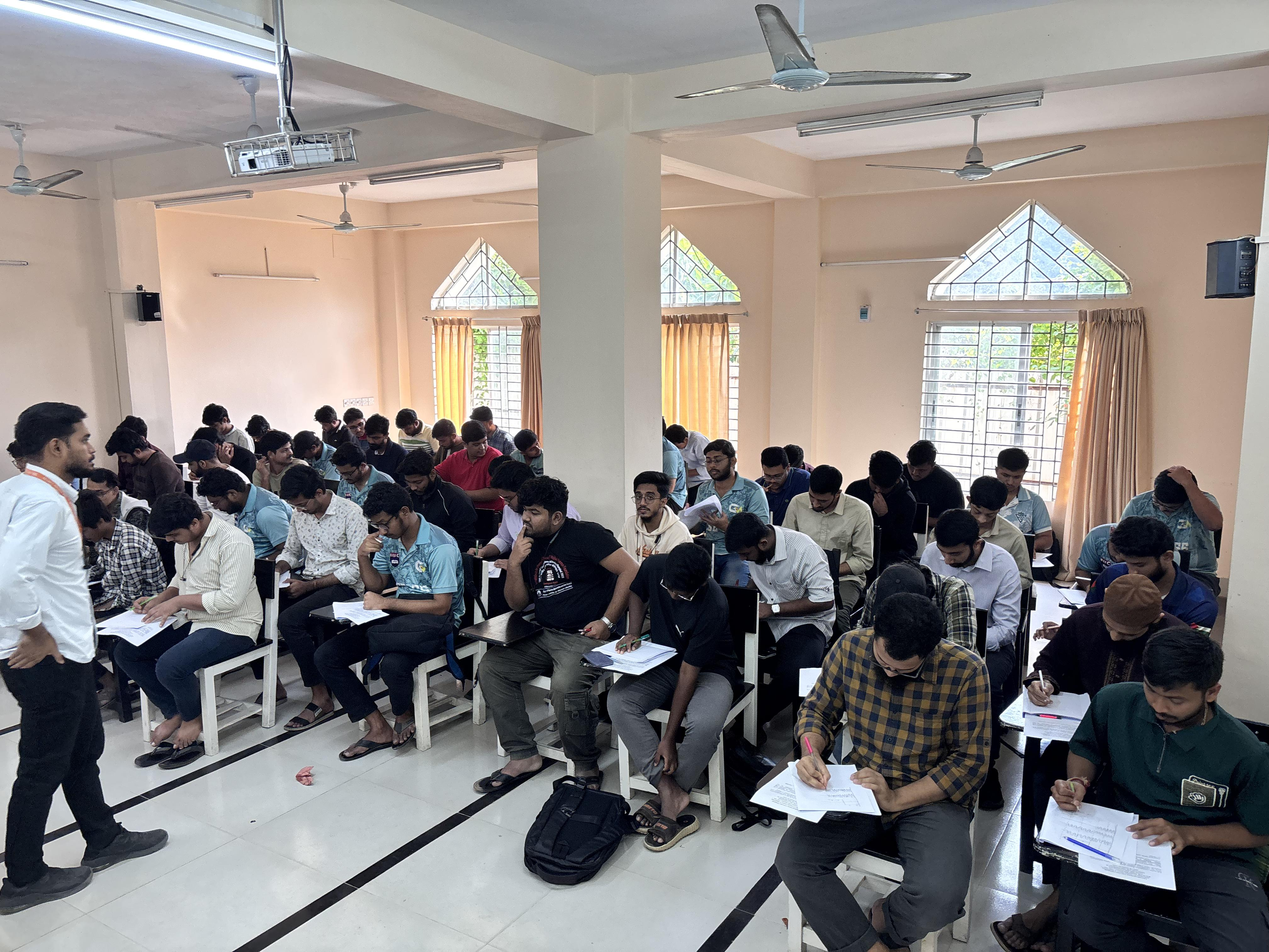copying: (447, 419, 498, 485), (513, 425, 549, 470), (345, 404, 375, 445)
invigilator: (10, 401, 112, 727)
no_cheating: (1048, 658, 1261, 930), (771, 616, 972, 893), (596, 562, 736, 771), (118, 512, 262, 713), (486, 487, 589, 709), (326, 499, 447, 686), (1031, 592, 1155, 729), (263, 473, 355, 618), (722, 529, 827, 643), (792, 474, 876, 593), (1100, 515, 1213, 603), (980, 457, 1070, 559), (927, 520, 1008, 632), (1131, 468, 1235, 549), (80, 492, 150, 595), (858, 444, 925, 538), (474, 463, 542, 547), (955, 485, 1027, 564), (109, 426, 181, 500), (327, 449, 400, 509), (629, 477, 681, 560), (183, 478, 273, 524), (749, 444, 799, 515), (392, 454, 447, 516), (905, 435, 955, 501), (380, 404, 430, 454), (357, 414, 405, 454), (197, 403, 248, 436), (290, 426, 335, 463), (311, 405, 343, 443), (430, 417, 462, 450)
suspicious_moving: (686, 433, 750, 521), (254, 429, 303, 481)
